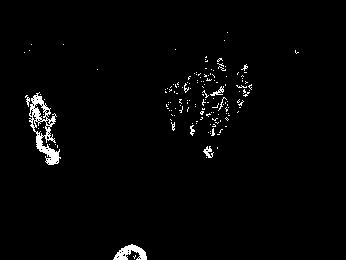person: (24, 92, 61, 164), (202, 83, 230, 159), (184, 72, 202, 137), (163, 80, 182, 132)
